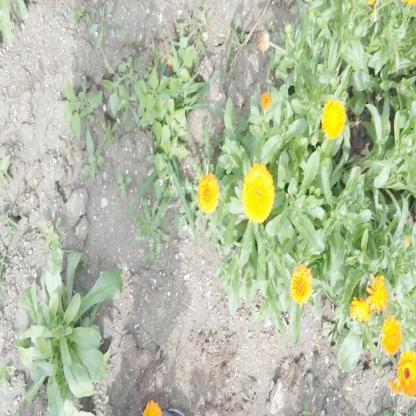marigold: (244, 162, 274, 224), (351, 287, 380, 325), (323, 97, 346, 140), (394, 350, 415, 396), (291, 266, 314, 306), (365, 279, 388, 316), (199, 174, 220, 214), (382, 316, 402, 352)
